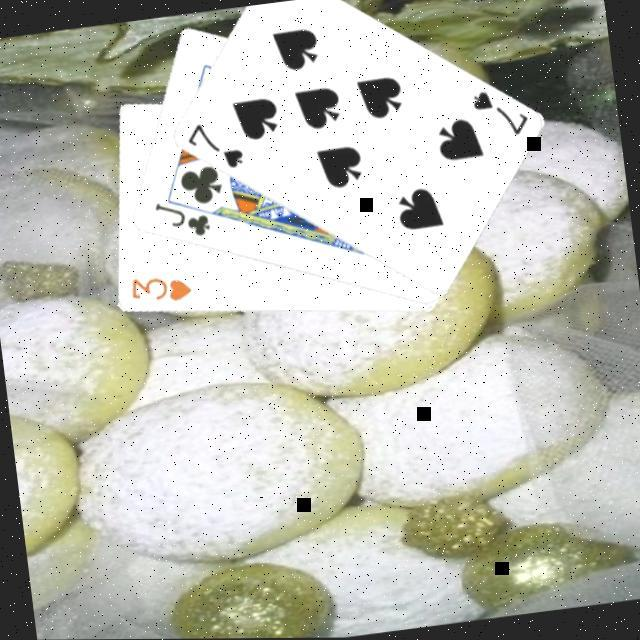3H: (124, 268, 194, 310)
7S: (180, 116, 246, 178), (466, 83, 532, 145)
JC: (149, 194, 212, 246)
